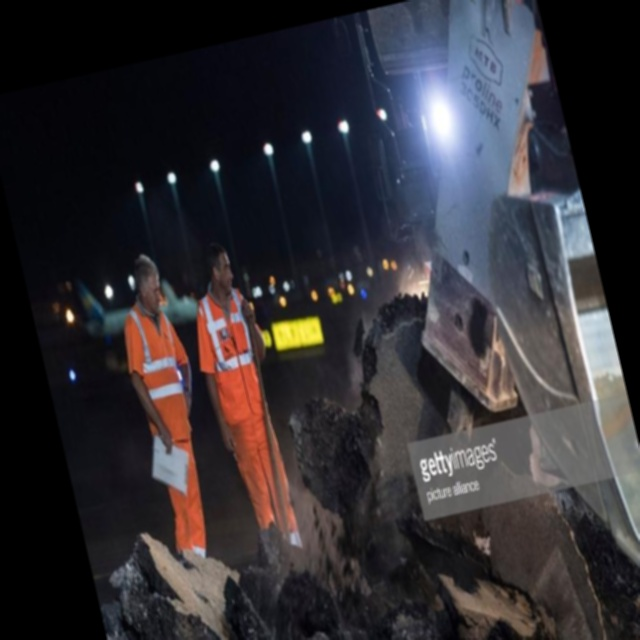Con_Chaleco: (195, 289, 270, 422), (122, 309, 195, 445)
Sin_Casco_Mascarrilla: (129, 252, 167, 314), (203, 241, 235, 292)
